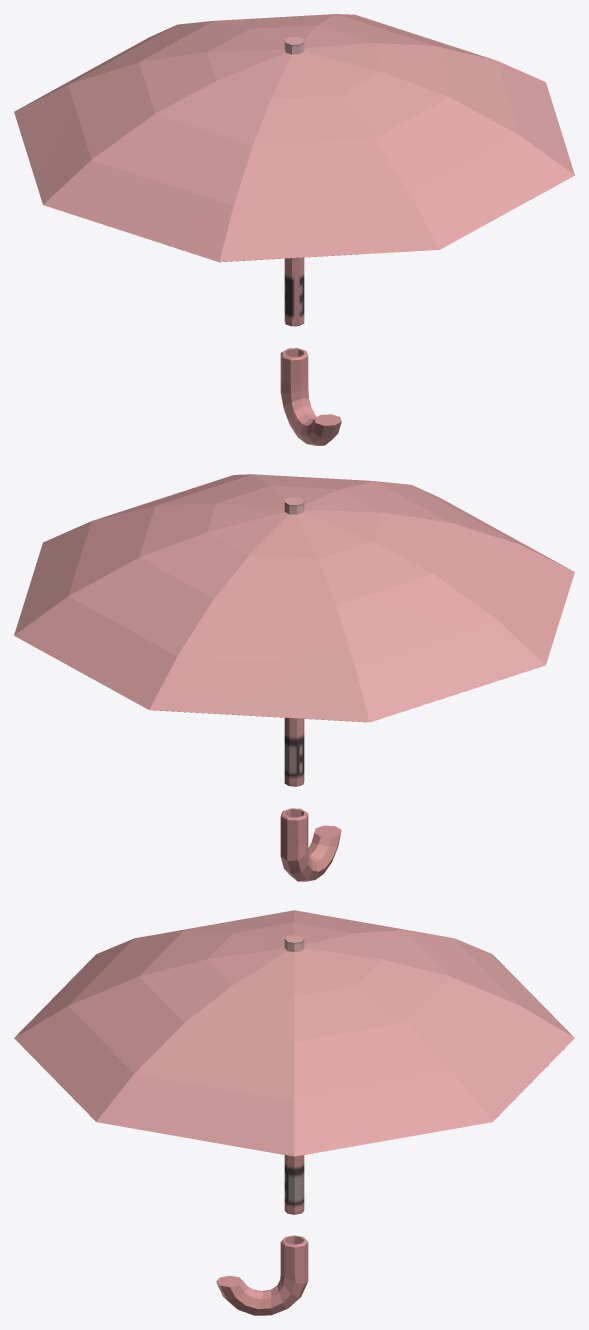
File: umbrella.fbx
3 renders of one model, top to bottom at view 1: azimuth 30°, elevation 25°; view 2: azimuth 150°, elevation 25°; view 3: azimuth 270°, elevation 25°, orthographic. The views are drawn at different scales.
Visible parts, largest first — view 1: Umbrella Top, Umbrella Base; view 2: Umbrella Top, Umbrella Base; view 3: Umbrella Top, Umbrella Base.
Part boxes in pixels (left/top/right/bottom): Umbrella Top: left=14, top=14, right=574, bottom=262; Umbrella Base: left=280, top=37, right=341, bottom=445; Umbrella Top: left=14, top=474, right=574, bottom=722; Umbrella Base: left=280, top=497, right=341, bottom=881; Umbrella Top: left=14, top=910, right=574, bottom=1156; Umbrella Base: left=216, top=935, right=308, bottom=1315.
Bounding box in the file's own units: 822 × 608 × 822.
